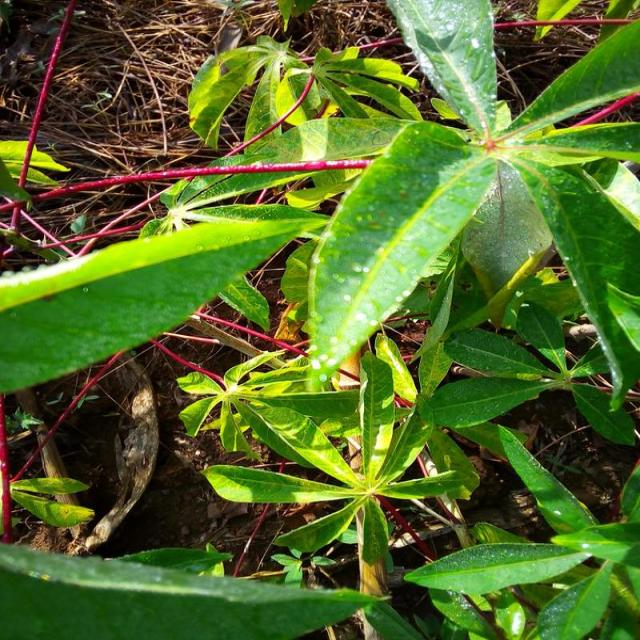cassava leaf: (2, 203, 330, 394), (303, 118, 499, 384)
